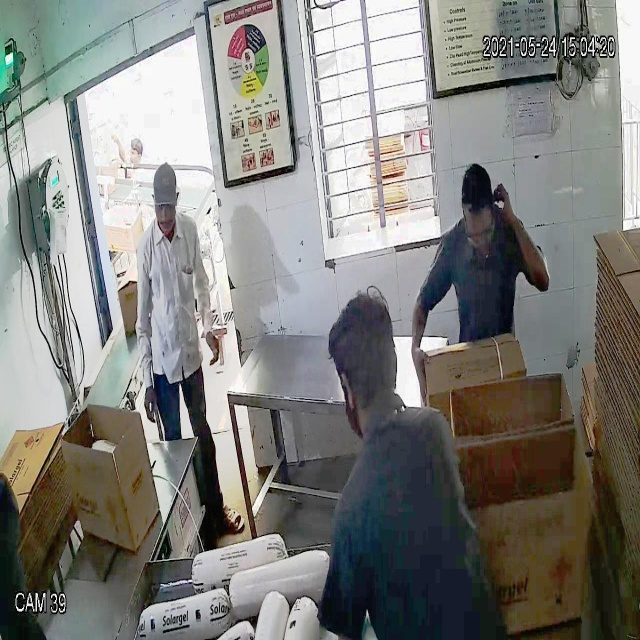Sin_gafas: (152, 201, 181, 219)
